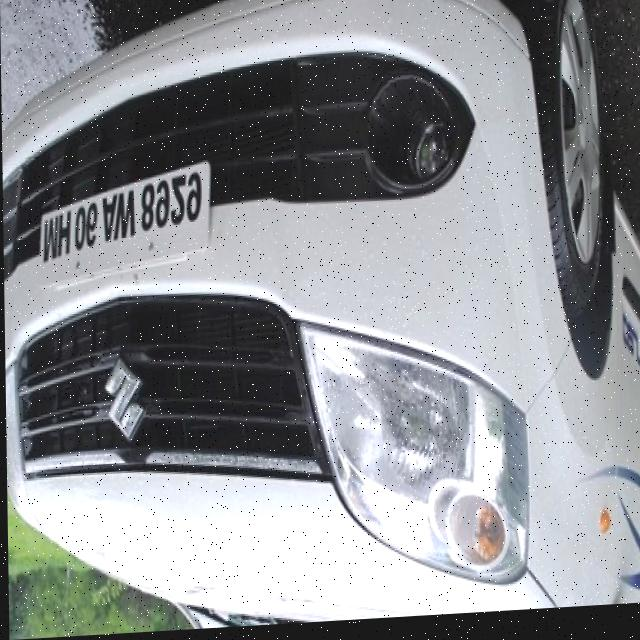plate: (35, 163, 212, 280)
